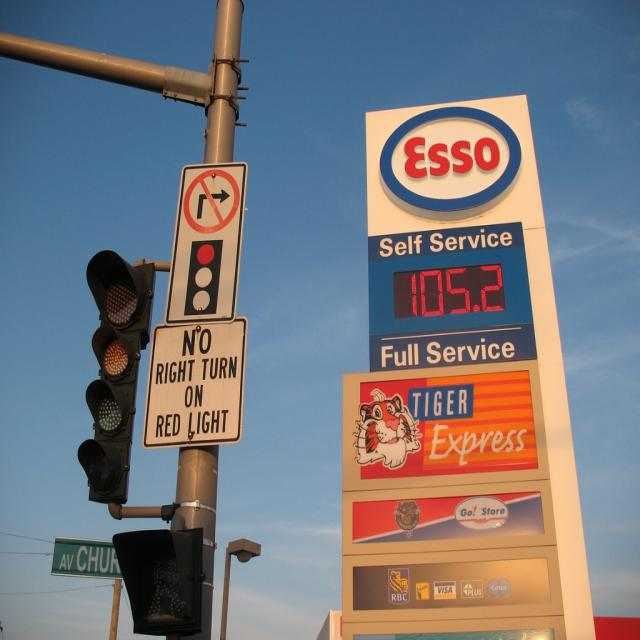esso: (378, 105, 526, 216)
